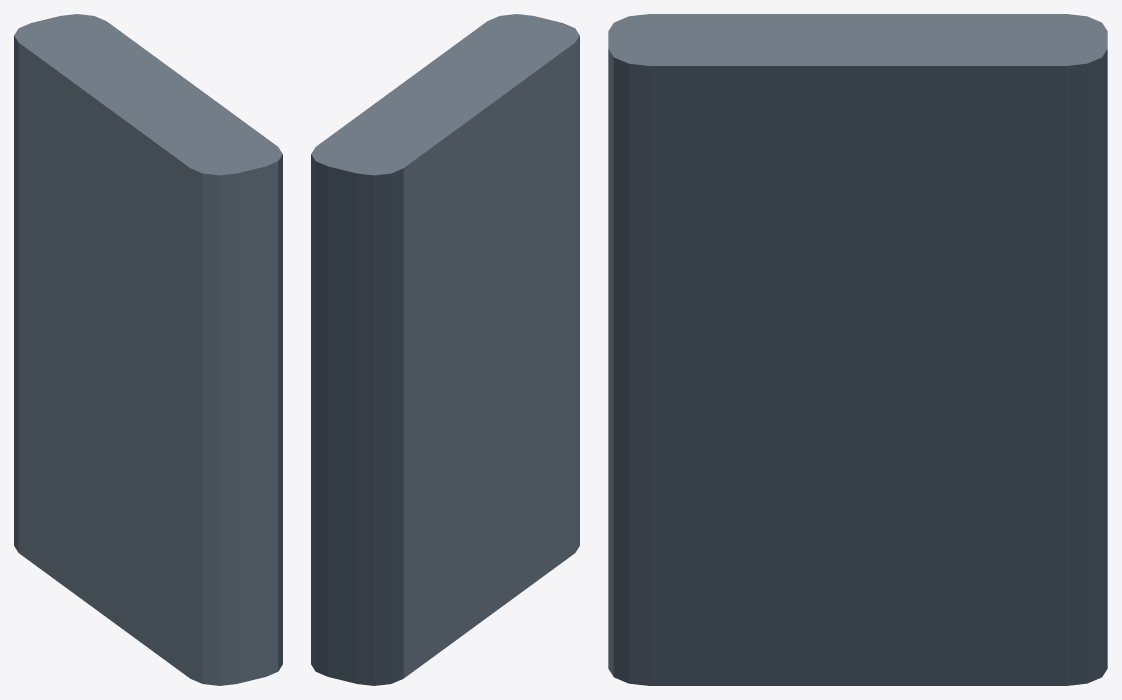
Rendered from Bridge_Anchor.gltf.
3 renders of one model, left to right at view 1: azimuth 30°, elevation 25°; view 2: azimuth 150°, elevation 25°; view 3: azimuth 270°, elevation 25°, orthographic. The views are drawn at different scales.
Parts seen in each view (by area): view 1: Bridge_Anchor_baked; view 2: Bridge_Anchor_baked; view 3: Bridge_Anchor_baked.
Part boxes in pixels (bbox=[...]): Bridge_Anchor_baked: bbox=[14, 14, 282, 685]; Bridge_Anchor_baked: bbox=[311, 14, 579, 685]; Bridge_Anchor_baked: bbox=[608, 14, 1107, 685].
Bounding box in the file's own units: 0.18 × 1 × 0.73.
